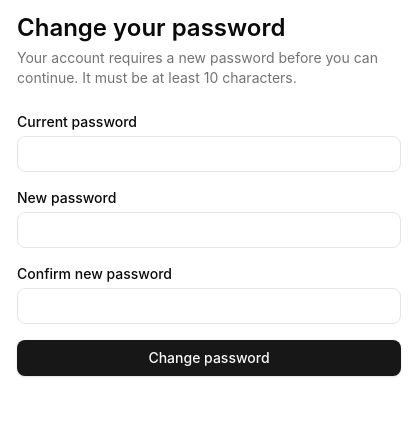
Test case: ChangePasswordPage › shows the backend error when the current password is wrong
The image size is (419, 430).
Type "wrong-password" into the password field labelled "Current password". click: (209, 154)
box: [17, 136, 401, 172]
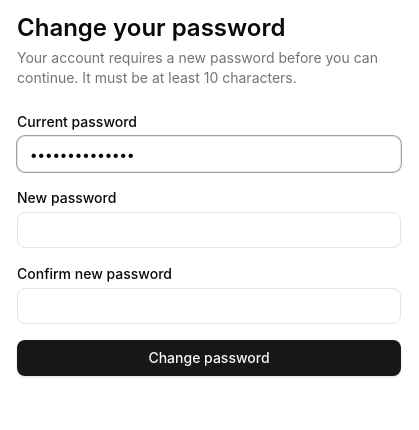
Type "new-secure-password" into the password field labelled "New password". click: (209, 230)
box: [17, 212, 401, 248]
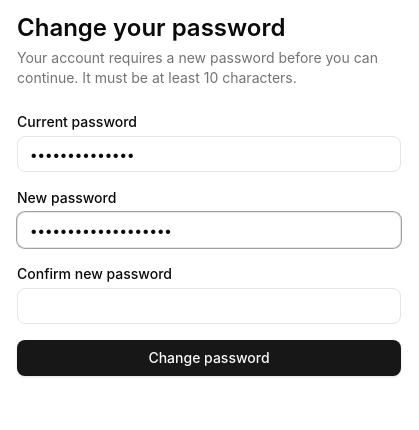
Type "new-secure-password" into the password field labelled "Confirm new password". click: (209, 306)
box: [17, 288, 401, 324]
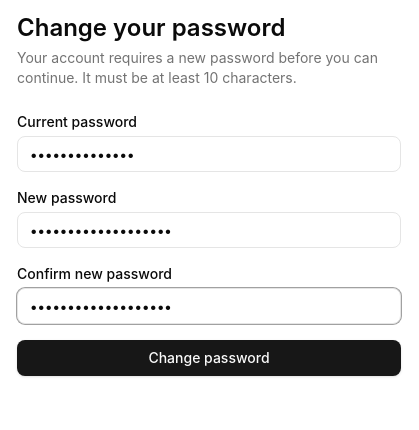
Click the button "Change password". click: click(209, 358)
box: [17, 340, 401, 376]
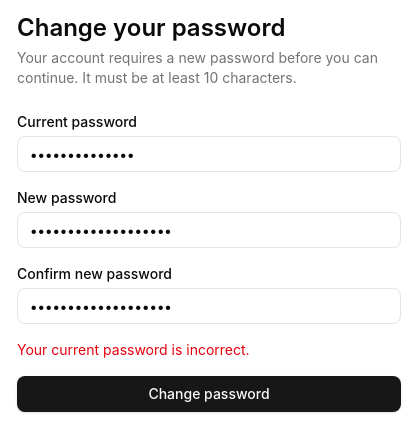
Expected: the text "Your current password is incorrect." is shown, [17, 341, 250, 358]
